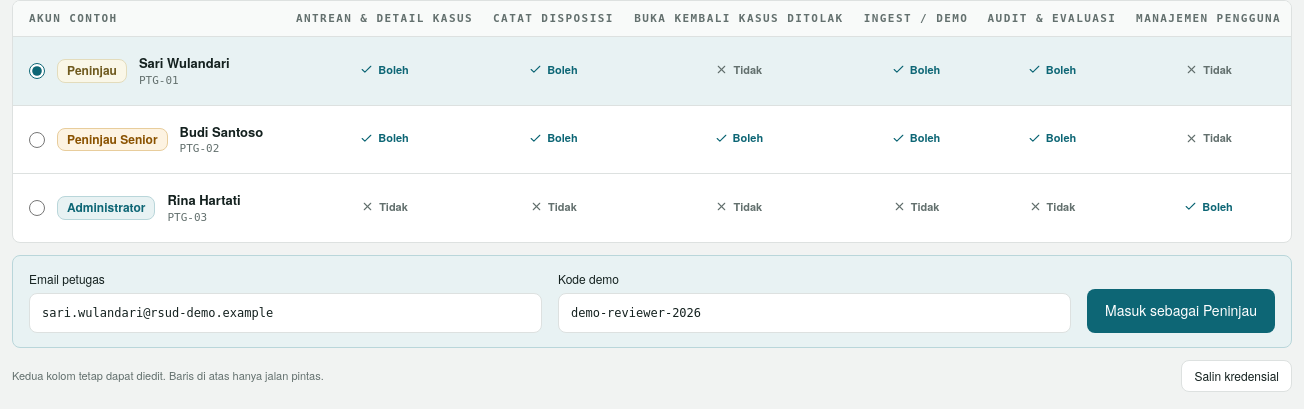
Scenario: the matrix as the sign-in control › choosing another row rewrites both fields and the button names that role
Click the radio button labelled "Peninjau Senior Budi Santoso PTG-02": (37, 140) [29,132,45,148]
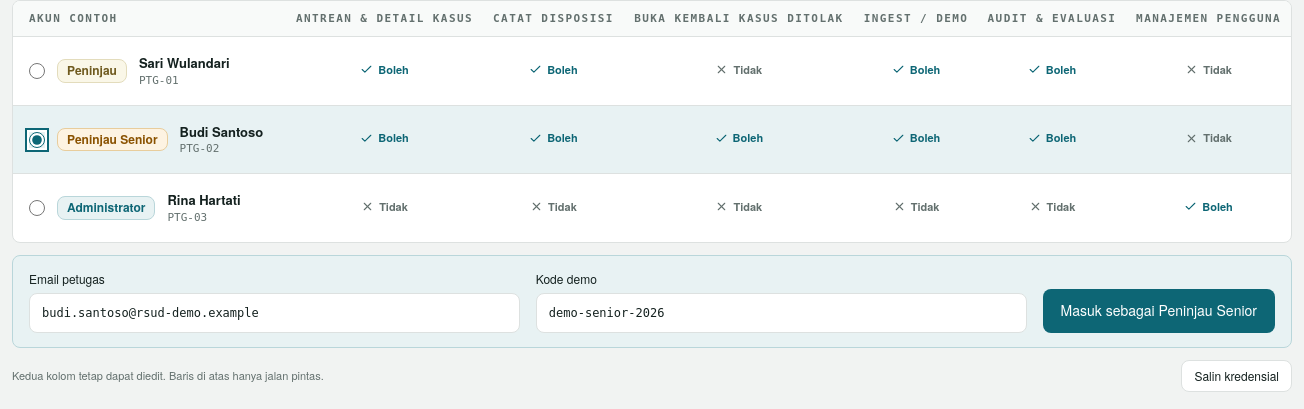
Result: the field labelled "Email petugas" holds "budi.santoso@rsud-demo.example" at [29,293,520,333]
Result: the field labelled "Kode demo" holds "demo-senior-2026" at [536,293,1027,333]
Result: the button "Masuk sebagai Peninjau Senior" is shown at [1043,289,1275,333]
